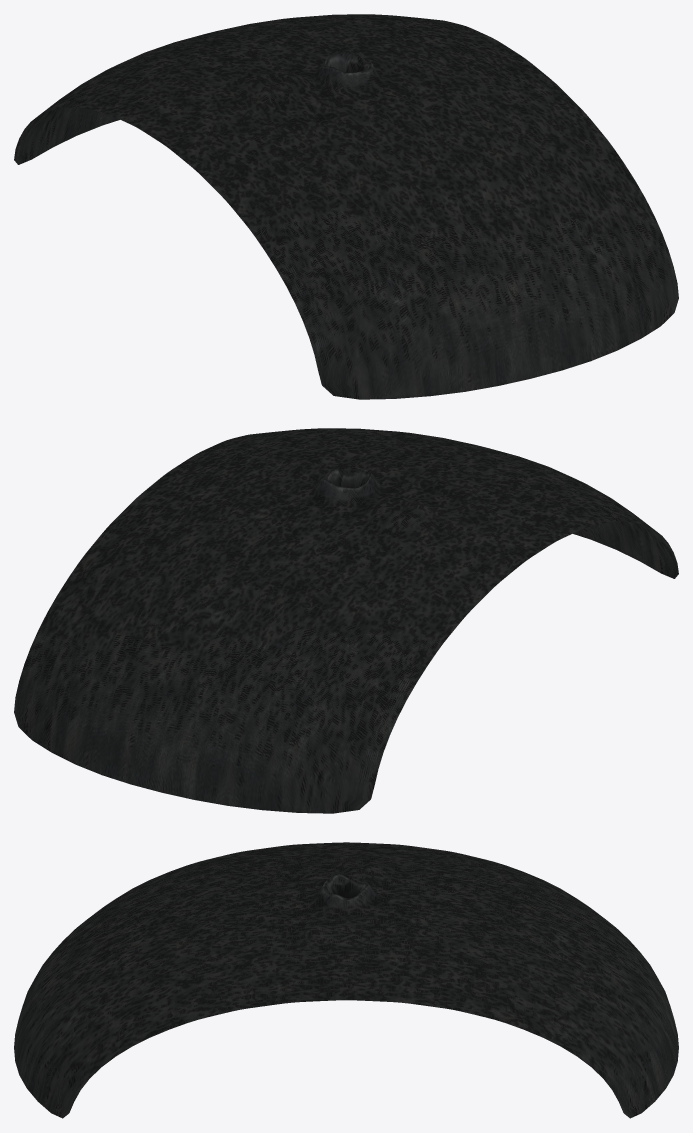
3 renders of one model, top to bottom at view 1: azimuth 30°, elevation 25°; view 2: azimuth 150°, elevation 25°; view 3: azimuth 270°, elevation 25°, orthographic. The views are drawn at different scales.
Parts seen in each view (by area): view 1: Moon; view 2: Moon; view 3: Moon.
Part boxes in pixels (x1,y1,x2,y2): Moon: (14, 14, 678, 399); Moon: (14, 428, 678, 813); Moon: (14, 842, 678, 1118).
Bounding box in the file's own units: 222 × 109 × 396.
1 material, 1 textured.
